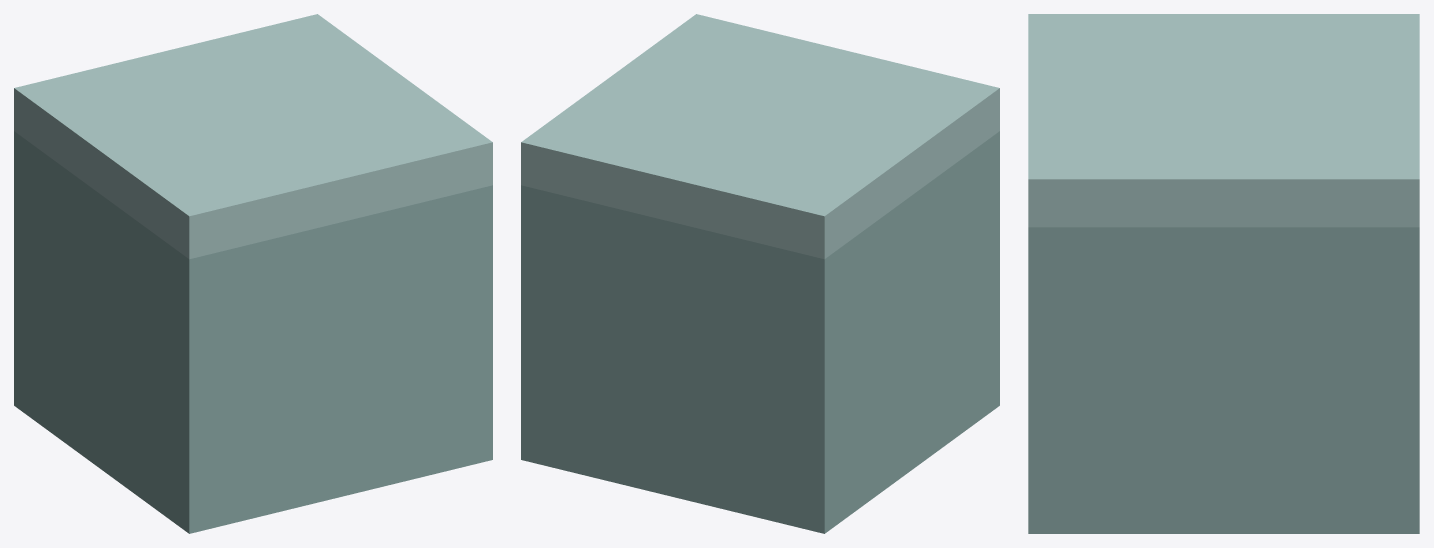
The model's file is water.fbx.
The picture shows the model from 3 angles, left to right: view 1: azimuth 30°, elevation 25°; view 2: azimuth 150°, elevation 25°; view 3: azimuth 270°, elevation 25°; orthographic projection. The views are drawn at different scales.
Parts seen in each view (by area): view 1: Water; view 2: Water; view 3: Water.
Part boxes in pixels (x1,y1,x2,y2): Water: [14, 14, 492, 533]; Water: [521, 14, 999, 533]; Water: [1028, 14, 1419, 533].
Size of the model in its own units: 100 by 100 by 100.
